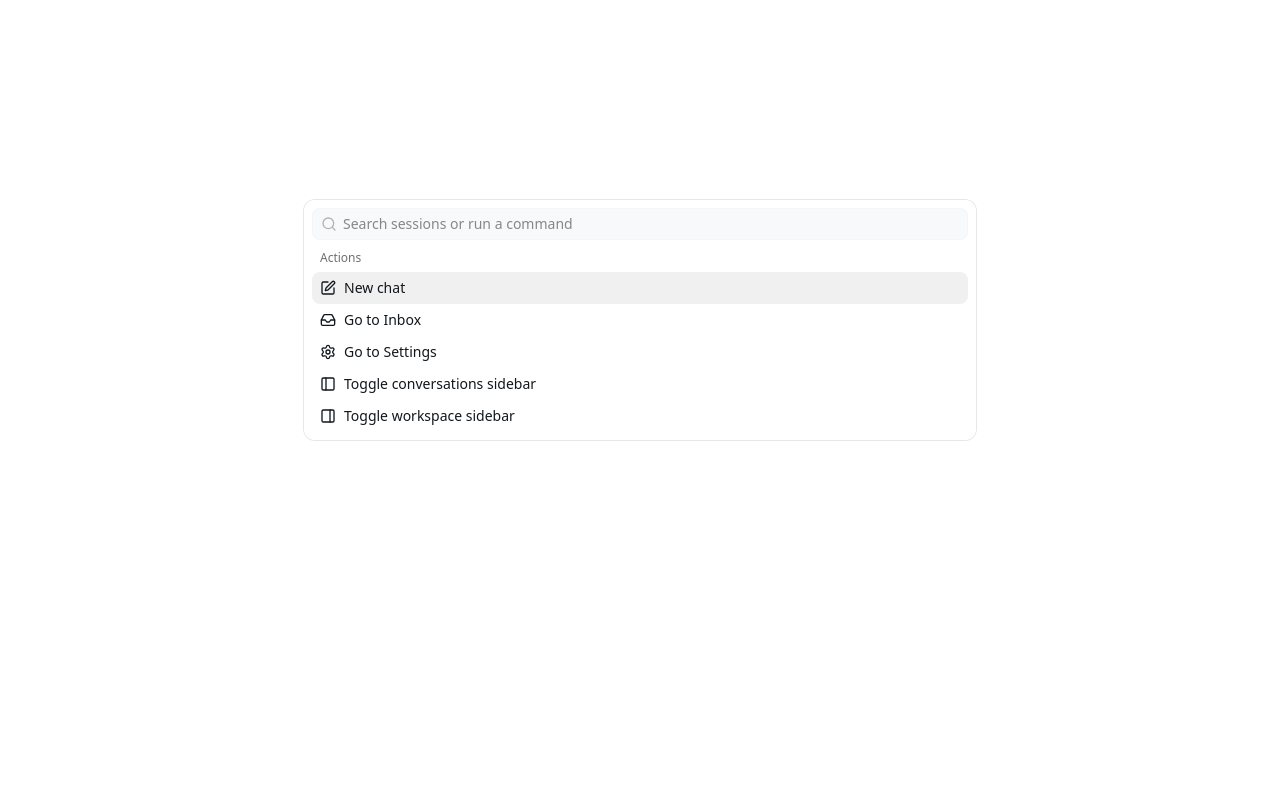
Test case: CommandPalette — empty state › shows an empty state when nothing matches
The image size is (1280, 800).
# A query that matches no action and no session.
Type "zzzznomatch" into the dropdown with test id "command-palette-input" at point(652, 224), box [337,214,967,234]
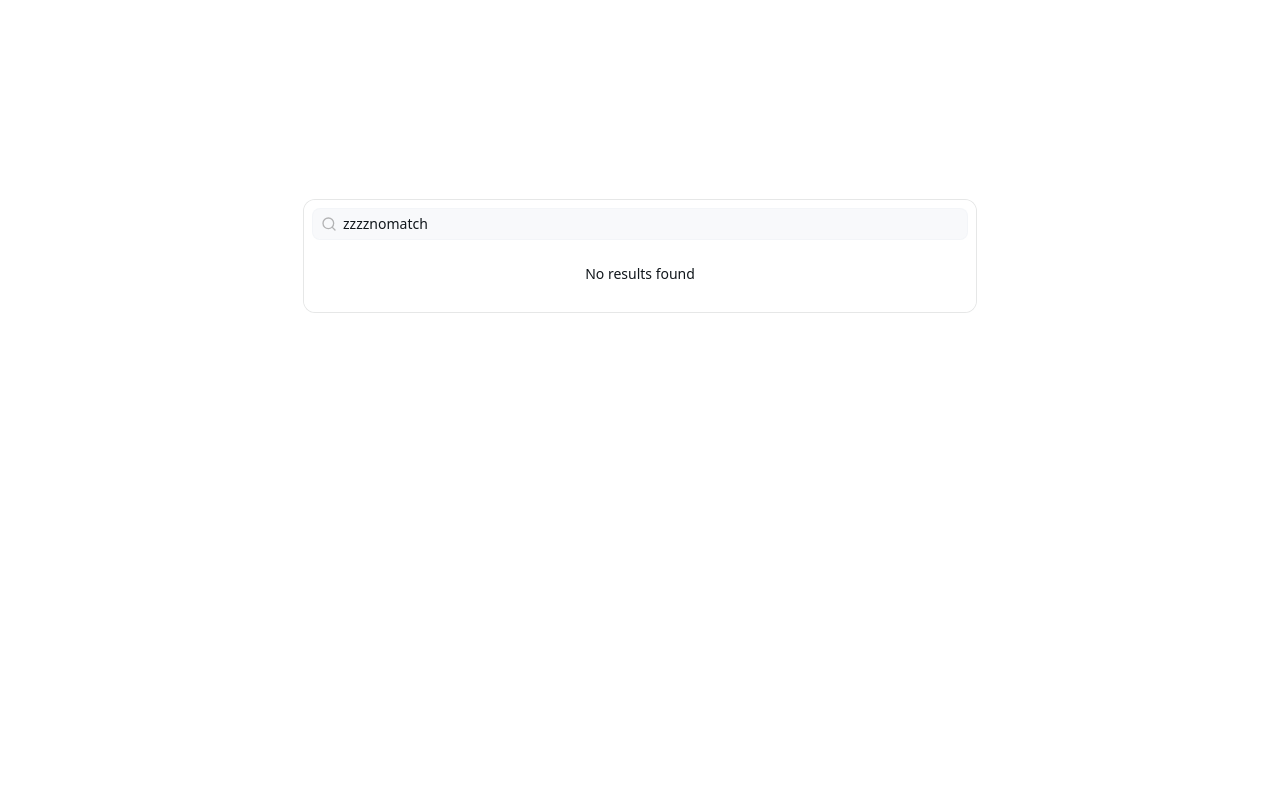
Expected: the text "No results found" is shown, [585,264,695,283]
